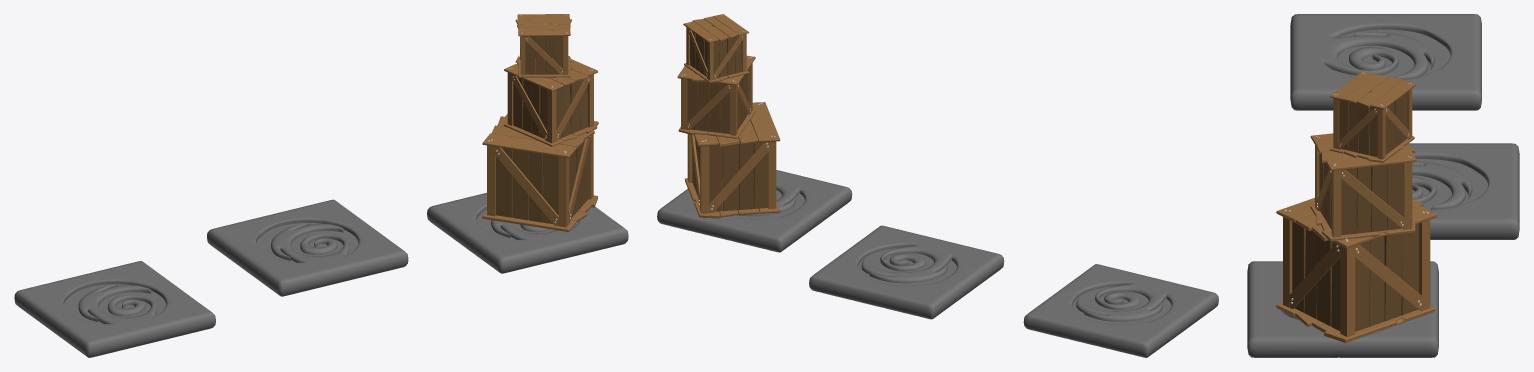
File: Hanoi_v2.fbx
3 renders of one model, left to right at view 1: azimuth 30°, elevation 25°; view 2: azimuth 150°, elevation 25°; view 3: azimuth 270°, elevation 25°, orthographic. The views are drawn at different scales.
Visible parts, largest first — view 1: Piattaforma2, Piattaforma3, Cassa grande, Piattaforma1, Cassa media, Cassa piccola; view 2: Piattaforma3, Piattaforma2, Cassa grande, Piattaforma1, Cassa media, Cassa piccola; view 3: Piattaforma3, Cassa grande, Piattaforma2, Piattaforma1, Cassa media, Cassa piccola.
Boxes of the visible parts, box(x1,y1,x2,y2) form: Piattaforma2: box(207, 199, 408, 296); Piattaforma3: box(14, 261, 215, 357); Cassa grande: box(482, 114, 598, 231); Piattaforma1: box(427, 193, 628, 273); Cassa media: box(503, 59, 597, 146); Cassa piccola: box(515, 14, 572, 77); Piattaforma3: box(1023, 264, 1218, 357); Piattaforma2: box(809, 225, 1004, 319); Cassa grande: box(685, 102, 780, 218); Piattaforma1: box(657, 170, 852, 252); Cassa media: box(677, 55, 755, 138); Cassa piccola: box(683, 14, 749, 82); Piattaforma3: box(1290, 14, 1481, 110); Cassa grande: box(1276, 198, 1437, 342); Piattaforma2: box(1408, 143, 1519, 239); Piattaforma1: box(1247, 261, 1438, 357); Cassa media: box(1310, 133, 1416, 241); Cassa piccola: box(1329, 71, 1415, 162).
Size of the model in its own units: 261 by 90.69 by 90.25.
